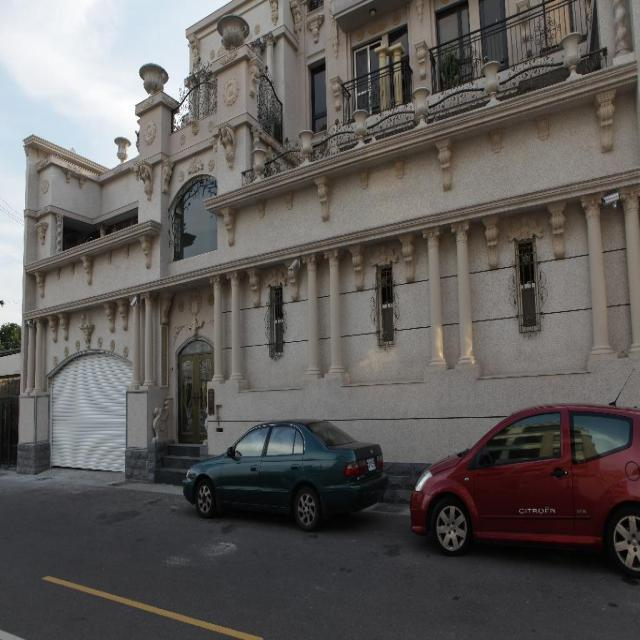car: (182, 419, 387, 528)
